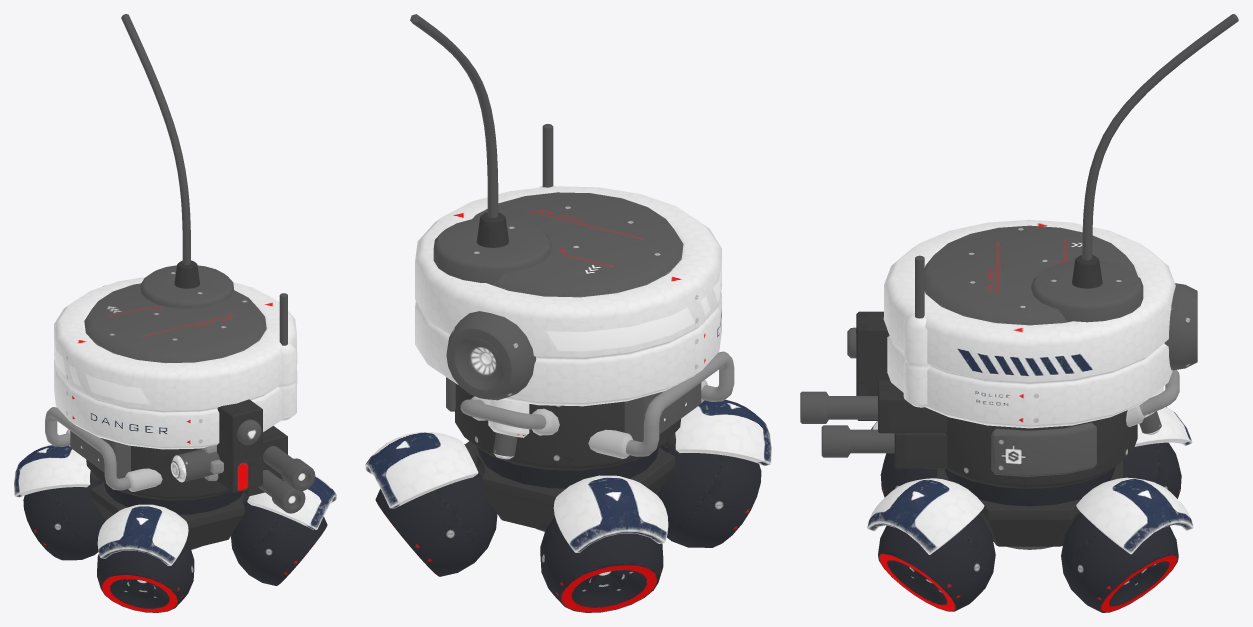
Rendered from policedrone.glb.
The picture shows the model from 3 angles, left to right: view 1: azimuth 30°, elevation 25°; view 2: azimuth 150°, elevation 25°; view 3: azimuth 270°, elevation 25°; orthographic projection. The views are drawn at different scales.
Visible parts, largest first — view 1: topbody_low, toppanel_low, thrusterpanel_low (×3), thruster_low3, thruster_low, thruster_low2, face_low, bodylow_low, toppanel2_low, Base_low, antennatwo_low, sidebaring_low (+11 smaller); view 2: topbody_low, thrusterpanel_low (×3), toppanel_low, thruster_low2, thruster_low3, thruster_low1, bodylow_low, rearThruster_low, toppanel2_low, Base_low, sidebaring_low, bottom2_low (+7 smaller); view 3: topbody_low, toppanel_low, thrusterpanel_low (×3), thruster_low1, thruster_low, bodylow_low, sidepanel_low, toppanel2_low, Base_low, antennatwo_low, face_low, bottom2_low (+11 smaller).
Part boxes in pixels (bbox=[...]): topbody_low: bbox=[54, 277, 297, 449]; toppanel_low: bbox=[84, 283, 266, 363]; thrusterpanel_low (×3): bbox=[14, 444, 336, 565]; thruster_low3: bbox=[97, 541, 194, 612]; thruster_low: bbox=[231, 501, 327, 585]; thruster_low2: bbox=[23, 480, 105, 560]; face_low: bbox=[217, 399, 262, 492]; bodylow_low: bbox=[86, 446, 230, 500]; toppanel2_low: bbox=[140, 265, 233, 308]; Base_low: bbox=[90, 482, 248, 548]; antennatwo_low: bbox=[121, 14, 190, 264]; sidebaring_low: bbox=[45, 407, 130, 490]; topbody_low: bbox=[415, 186, 721, 406]; thrusterpanel_low (×3): bbox=[365, 399, 771, 552]; toppanel_low: bbox=[472, 192, 683, 297]; thruster_low2: bbox=[540, 517, 663, 612]; thruster_low3: bbox=[657, 445, 761, 547]; thruster_low1: bbox=[375, 472, 497, 576]; bodylow_low: bbox=[455, 383, 680, 470]; rearThruster_low: bbox=[446, 311, 536, 400]; toppanel2_low: bbox=[433, 218, 551, 284]; Base_low: bbox=[465, 441, 675, 530]; sidebaring_low: bbox=[626, 351, 734, 456]; bottom2_low: bbox=[477, 447, 658, 488]; topbody_low: bbox=[883, 219, 1175, 428]; toppanel_low: bbox=[924, 225, 1137, 325]; thrusterpanel_low (×3): bbox=[867, 406, 1193, 554]; thruster_low1: bbox=[1061, 512, 1178, 612]; thruster_low: bbox=[878, 514, 995, 611]; bodylow_low: bbox=[945, 410, 1137, 489]; sidepanel_low: bbox=[991, 422, 1096, 476]; toppanel2_low: bbox=[1031, 260, 1143, 322]; Base_low: bbox=[936, 460, 1123, 546]; antennatwo_low: bbox=[1082, 14, 1238, 260]; face_low: bbox=[856, 311, 889, 420]; bottom2_low: bbox=[945, 467, 1115, 506].
Bounding box in the file's own units: 2.24 × 4.36 × 3.
Materials: 1 (1 with a texture image).
